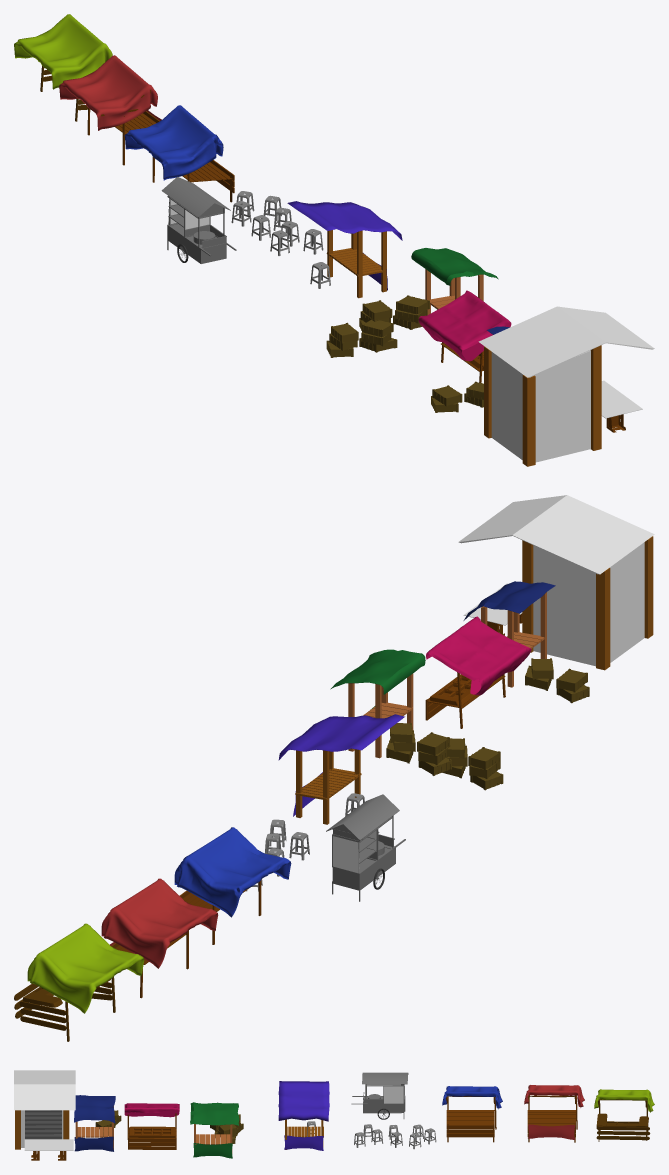
The model's file is nova_feira.fbx.
3 renders of one model, top to bottom at view 1: azimuth 30°, elevation 25°; view 2: azimuth 150°, elevation 25°; view 3: azimuth 270°, elevation 25°, orthographic. The views are drawn at different scales.
Parts seen in each view (by area): view 1: Cube.004, Plane.009, Cube, Plane.002, pCylinder2_Wood_0.001, Cylinder001, Cube.009, Cube.033, Plane.005, Plane.008, pCube264_kasa_mat_0.002, Plane (+4 smaller); view 2: Cube.004, Plane.009, pCylinder2_Wood_0.001, Cube, Plane.002, Cube.009, Cylinder001, Cube.033, Plane.005, Plane.008, Plane.007, Cube.013 (+4 smaller); view 3: Plane.009, Plane.002, Cube, Plane.005, Cube.009, pCylinder2_Wood_0.001, Cylinder001, Cube.031, Plane.008, Plane.007, Plane, Plane.003 (+9 smaller).
Part boxes in pixels (box(x1,y1,x2,y2)): Cube.004: box(491, 350, 590, 462); Plane.009: box(478, 306, 654, 377); Cube: box(124, 105, 234, 202); Plane.002: box(59, 55, 161, 165); pCylinder2_Wood_0.001: box(14, 14, 112, 121); Cylinder001: box(161, 177, 236, 263); Cube.009: box(418, 290, 511, 382); Cube.033: box(484, 345, 601, 466); Plane.005: box(287, 201, 402, 240); Plane.008: box(411, 248, 498, 285); pCube264_kasa_mat_0.002: box(362, 295, 429, 320); Plane: box(601, 380, 642, 418); Cube.004: box(533, 542, 644, 666); Plane.009: box(458, 495, 654, 574); pCylinder2_Wood_0.001: box(14, 923, 144, 1041); Cube: box(174, 827, 291, 944); Plane.002: box(98, 878, 218, 998); Cube.009: box(426, 616, 531, 728); Cylinder001: box(326, 794, 405, 901); Cube.033: box(522, 536, 653, 670); Plane.005: box(278, 714, 404, 760); Plane.008: box(330, 649, 425, 694); Plane.007: box(463, 581, 555, 620); Cube.013: box(348, 673, 413, 758); Plane.009: box(14, 1070, 75, 1110); Plane.002: box(524, 1085, 584, 1142); Cube: box(442, 1086, 502, 1142); Plane.005: box(278, 1081, 329, 1121); Cube.009: box(124, 1103, 179, 1149); pCylinder2_Wood_0.001: box(594, 1089, 654, 1141); Cylinder001: box(351, 1072, 408, 1119); Cube.031: box(25, 1110, 61, 1139); Plane.008: box(190, 1102, 239, 1125); Plane.007: box(74, 1095, 115, 1123); Plane: box(24, 1139, 73, 1150); Plane.003: box(193, 1143, 232, 1158).
Bounding box in the file's own units: 1265 × 753 × 6299.
